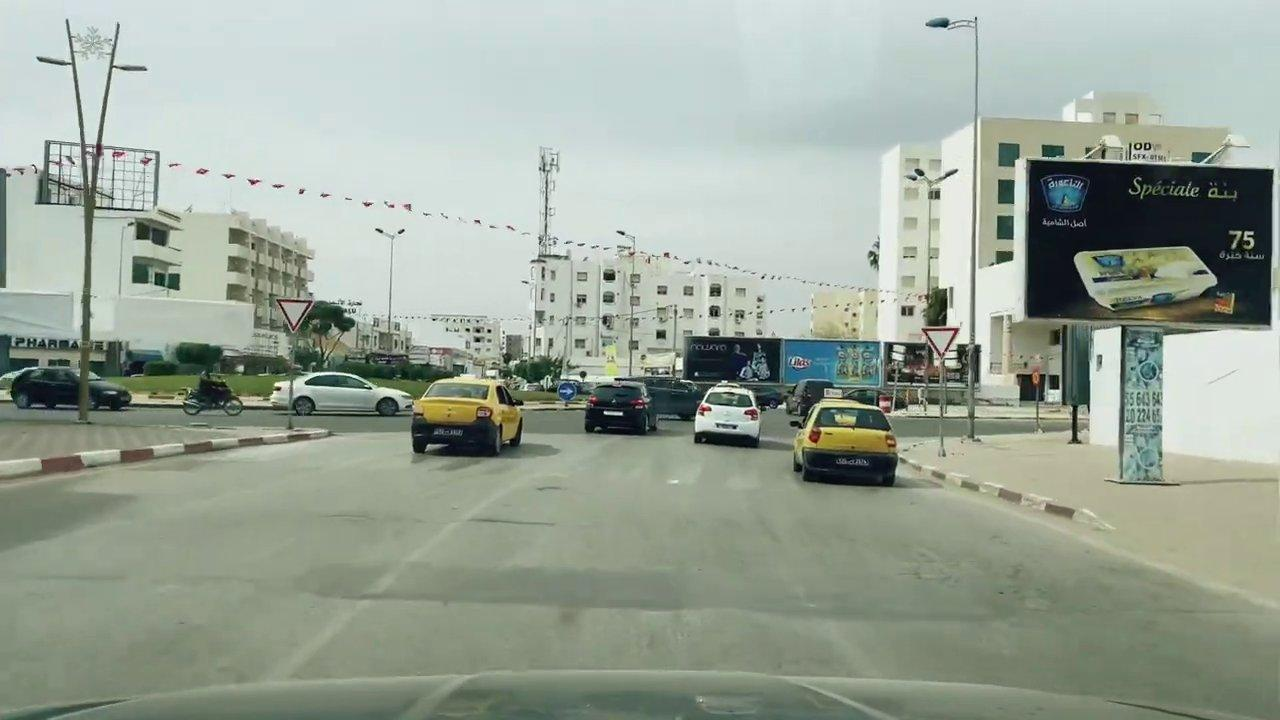give way: (274, 295, 314, 334), (917, 325, 960, 359)
turn right: (557, 380, 577, 401)
